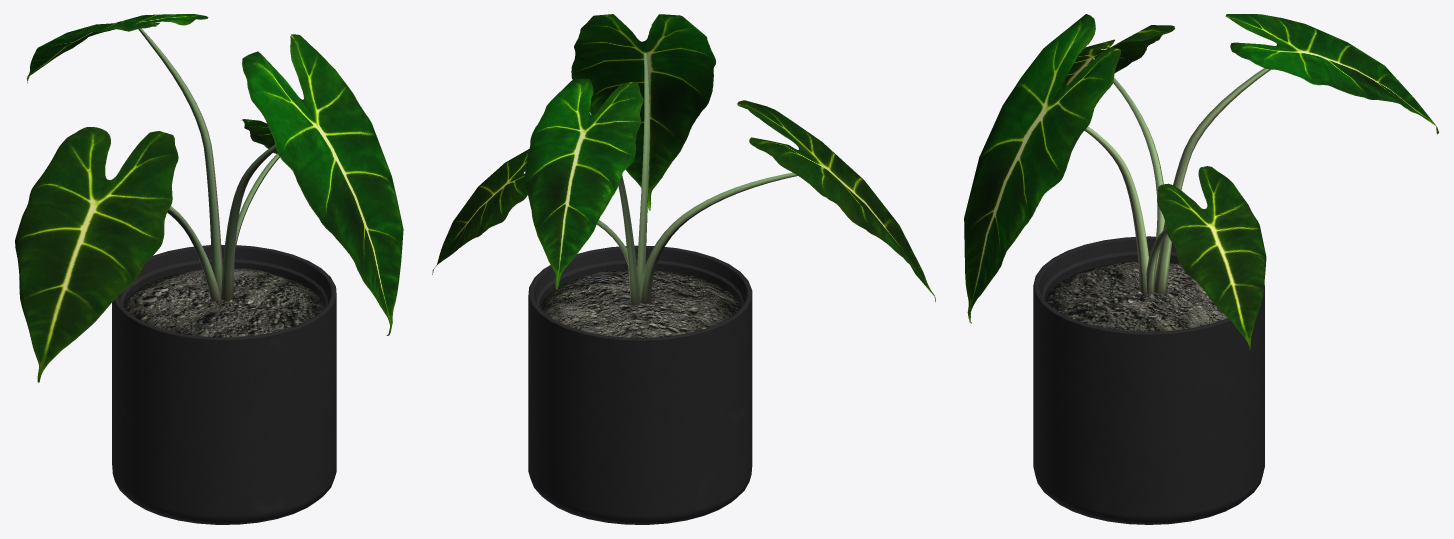
Rendered from plants.fbx.
The picture shows the model from 3 angles, left to right: view 1: azimuth 30°, elevation 25°; view 2: azimuth 150°, elevation 25°; view 3: azimuth 270°, elevation 25°; orthographic projection. The views are drawn at different scales.
Visible parts, largest first — view 1: SM_Plant_AlocasiaFrydek_01; view 2: SM_Plant_AlocasiaFrydek_01; view 3: SM_Plant_AlocasiaFrydek_01.
Boxes of the visible parts, x1=… form: SM_Plant_AlocasiaFrydek_01: x1=15, y1=14, x2=403, y2=524; SM_Plant_AlocasiaFrydek_01: x1=432, y1=14, x2=935, y2=524; SM_Plant_AlocasiaFrydek_01: x1=964, y1=14, x2=1438, y2=524.
Bounding box in the file's own units: 145 × 144 × 154.
